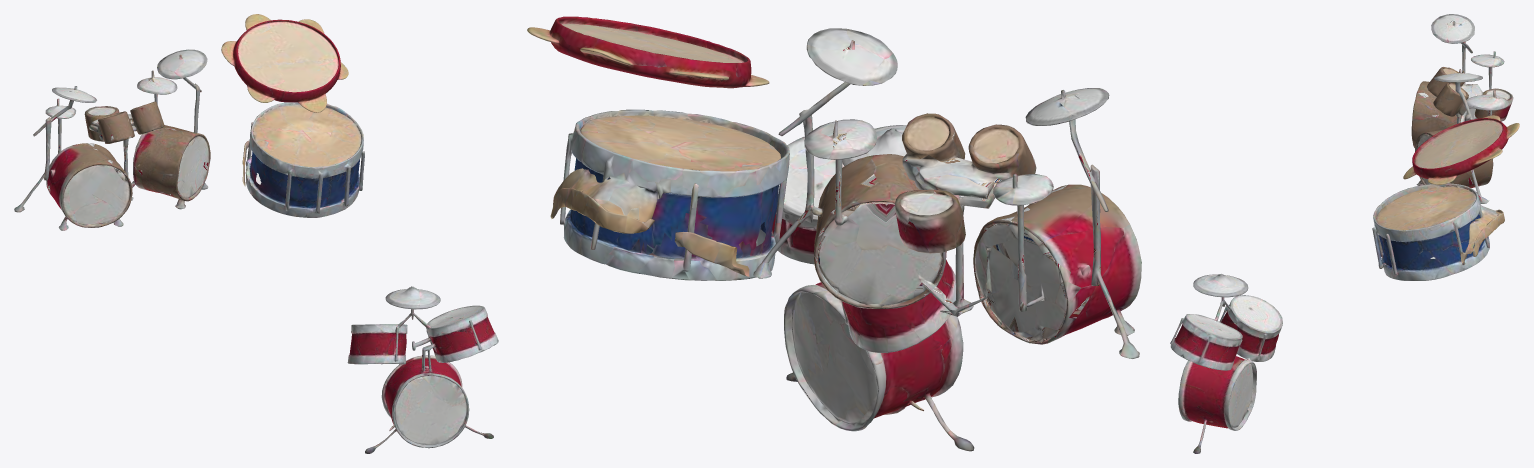
3 renders of one model, left to right at view 1: azimuth 30°, elevation 25°; view 2: azimuth 150°, elevation 25°; view 3: azimuth 270°, elevation 25°, orthographic. The views are drawn at different scales.
Parts seen in each view (by area): view 1: Mesh 3, Mesh 11, Mesh 9, Mesh 10; view 2: Mesh 3, Mesh 9, Mesh 11, Mesh 10; view 3: Mesh 11, Mesh 9, Mesh 3, Mesh 10.
Boxes of the visible parts, <box> form: Mesh 3: <box>14,49,210,230</box>; Mesh 11: <box>347,286,498,453</box>; Mesh 9: <box>242,102,364,217</box>; Mesh 10: <box>221,14,348,112</box>; Mesh 3: <box>753,28,1141,358</box>; Mesh 9: <box>550,109,789,280</box>; Mesh 11: <box>771,125,974,451</box>; Mesh 10: <box>527,16,769,88</box>; Mesh 11: <box>1170,274,1282,453</box>; Mesh 9: <box>1372,183,1504,280</box>; Mesh 3: <box>1411,14,1513,203</box>; Mesh 10: <box>1403,115,1519,184</box>.
Size of the model in its own units: 1.78 by 1.64 by 1.7.
Materials: 4 (4 with a texture image).
